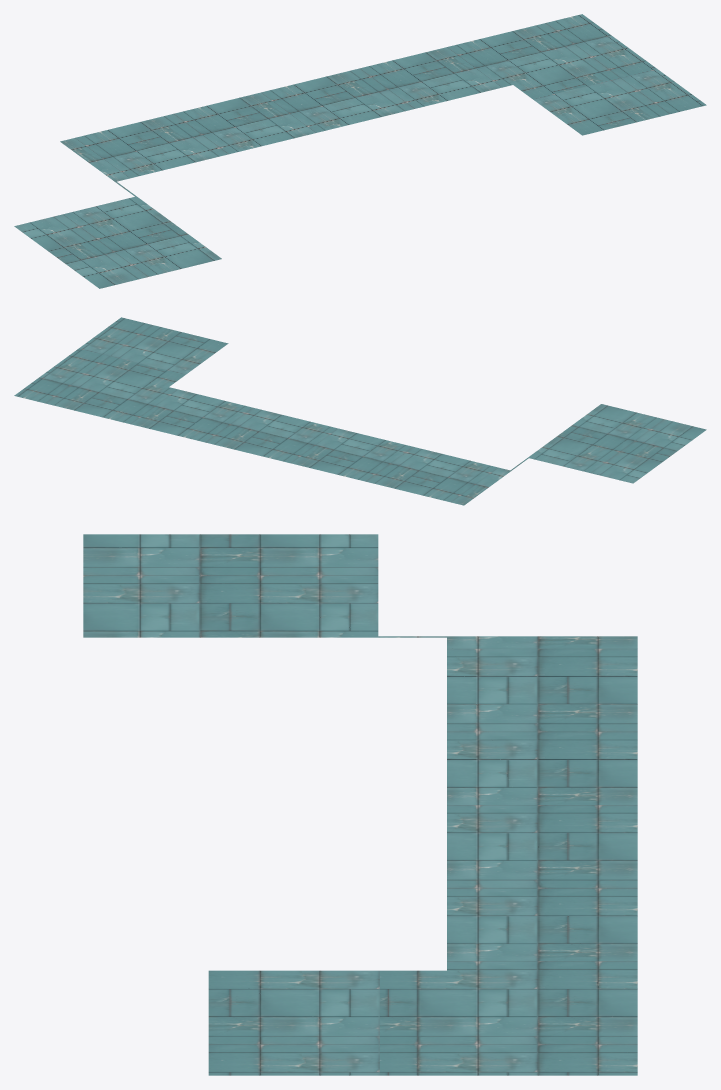
The model's file is brutalist-building-2-cbake.floor-2.hall.glb.
3 views of the same model, one above another, from view 1: azimuth 30°, elevation 25°; view 2: azimuth 150°, elevation 25°; view 3: azimuth 270°, elevation 25° (orthographic). The views are drawn at different scales.
Parts seen in each view (by area): view 1: floor; view 2: floor; view 3: floor.
Part boxes in pixels (box(x1,y1,x2,y2)): floor: box(14, 14, 706, 288); floor: box(14, 317, 706, 505); floor: box(83, 534, 637, 1075).
Size of the model in its own units: 29.53 by 0 by 12.79.
1 material, 1 textured.
